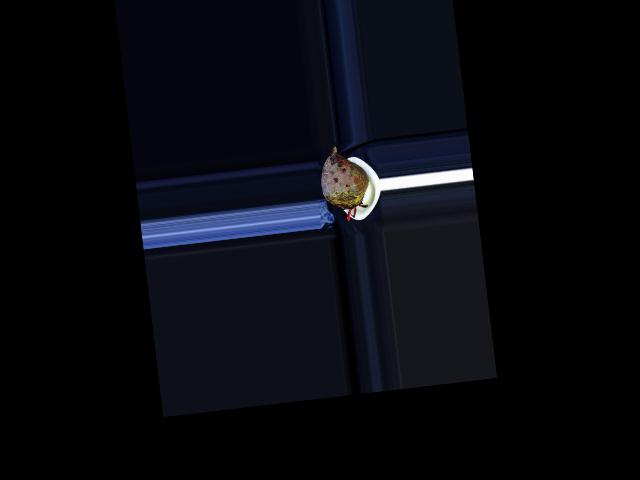beet: (318, 143, 373, 223)
